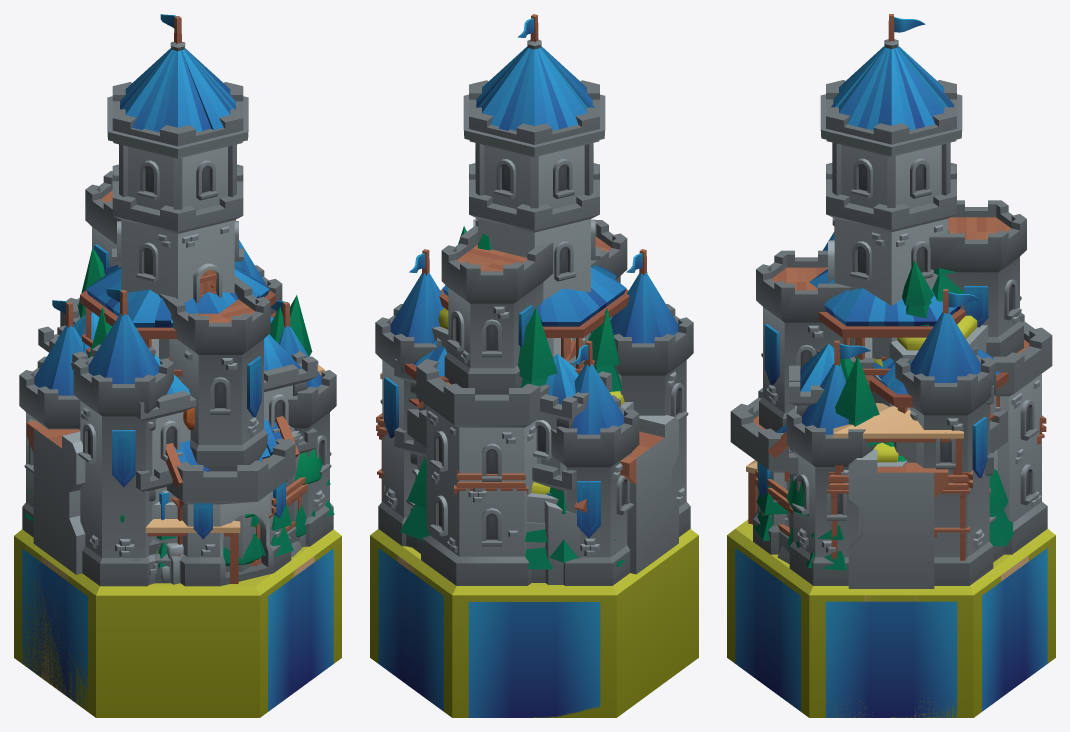
The model's file is medieval.glb.
3 renders of one model, left to right at view 1: azimuth 30°, elevation 25°; view 2: azimuth 150°, elevation 25°; view 3: azimuth 270°, elevation 25°, orthographic.
Visible parts, largest first — view 1: building_castle_blue, hex_river_B, hex_river_I, hex_river_A, building_barracks_blue, wall_straight, hex_grass, building_tower_B_top_blue, building_scaffolding, hex_river_E, mountain_A_grass_trees, building_watermill_blue (+6 smaller); view 2: building_castle_blue, hex_river_I, hex_grass, hex_river_B, hex_road_I, wall_straight, building_barracks_blue, building_tower_B_top_blue, mountain_A_grass_trees, trees_A_large, building_mine_blue, hex_coast_B_waterless (+7 smaller); view 3: building_castle_blue, hex_river_A, hex_river_E, hex_river_B, wall_straight, hex_river_I, building_scaffolding, building_tower_B_top_blue, mountain_B_grass_trees, building_archeryrange_blue, trees_A_large, building_barracks_blue (+6 smaller).
Boxes of the visible parts, <box> form: building_castle_blue: <box>19,14,336,586</box>; hex_river_B: <box>96,546,309,717</box>; hex_river_I: <box>20,529,341,717</box>; hex_river_A: <box>14,532,341,716</box>; building_barracks_blue: <box>38,311,317,584</box>; wall_straight: <box>26,420,85,574</box>; hex_grass: <box>14,531,341,717</box>; building_tower_B_top_blue: <box>80,264,275,382</box>; building_scaffolding: <box>145,364,324,583</box>; hex_river_E: <box>14,537,301,708</box>; mountain_A_grass_trees: <box>78,247,312,571</box>; building_watermill_blue: <box>165,416,299,584</box>; building_castle_blue: <box>375,14,693,585</box>; hex_river_I: <box>452,586,616,717</box>; hex_grass: <box>379,530,698,717</box>; hex_river_B: <box>370,529,561,717</box>; hex_road_I: <box>433,536,698,716</box>; wall_straight: <box>620,415,678,574</box>; building_barracks_blue: <box>394,316,612,547</box>; building_tower_B_top_blue: <box>439,264,629,374</box>; mountain_A_grass_trees: <box>445,285,633,549</box>; trees_A_large: <box>400,457,625,569</box>; building_mine_blue: <box>544,501,580,584</box>; hex_coast_B_waterless: <box>403,546,698,686</box>; building_castle_blue: <box>730,14,1052,585</box>; hex_river_A: <box>743,539,1047,717</box>; hex_river_E: <box>809,586,963,717</box>; hex_river_B: <box>735,519,1055,717</box>; wall_straight: <box>848,449,948,588</box>; hex_river_I: <box>727,529,812,717</box>; building_scaffolding: <box>746,403,1046,560</box>; building_tower_B_top_blue: <box>809,268,965,392</box>; mountain_B_grass_trees: <box>840,230,996,533</box>; building_archeryrange_blue: <box>870,349,1008,523</box>; trees_A_large: <box>752,469,1014,570</box>; building_barracks_blue: <box>789,343,993,476</box>.
Bounding box in the file's own units: 2 × 4.98 × 2.31.
1 material, 1 textured.
